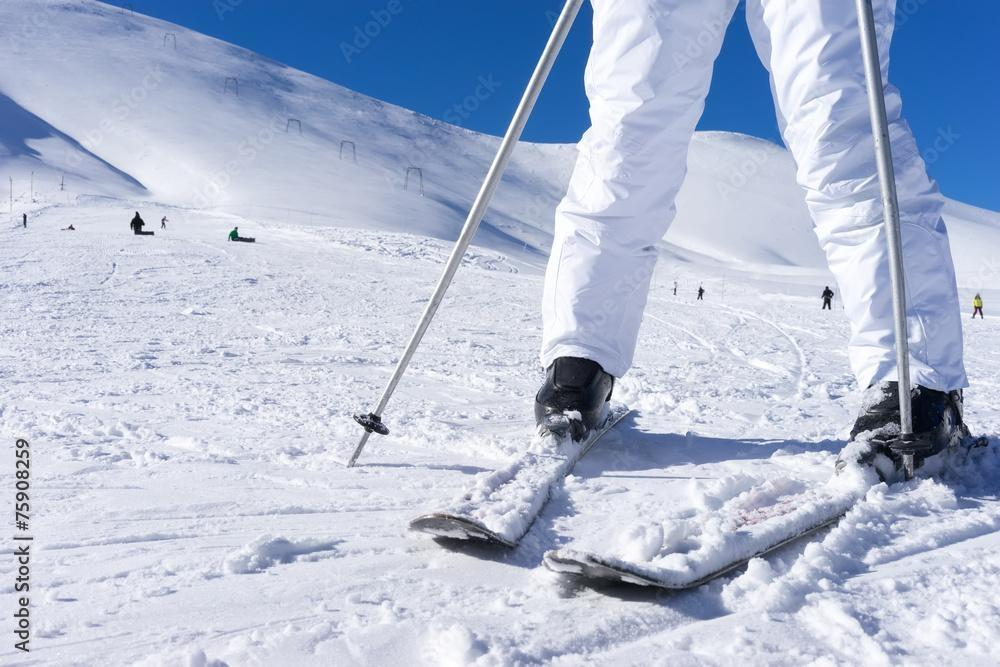Skis: (441, 345, 903, 649)
